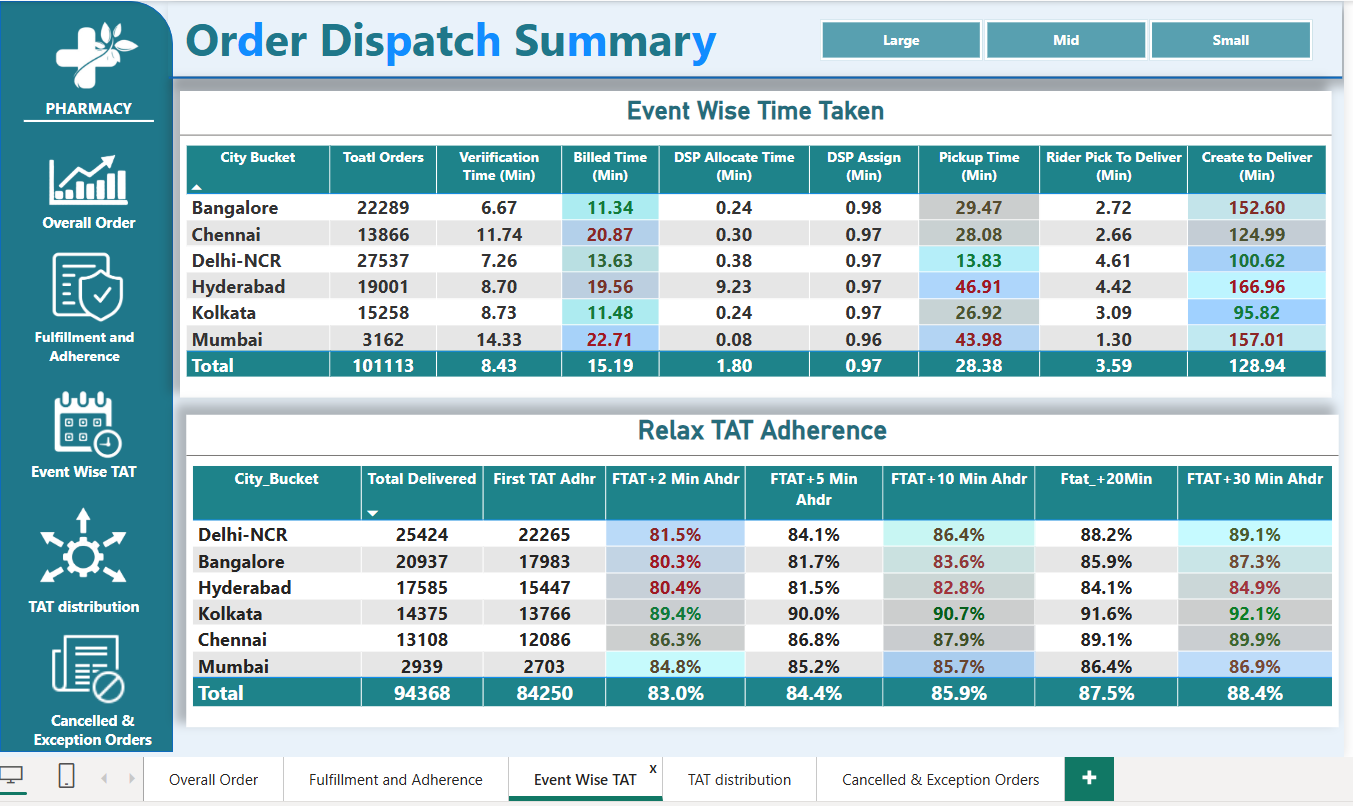

Layout of this report page (visuals, bound fields, positions):
{"tool":"powerbi","page":{"name":"Event Wise TAT","canvas":[1280,720],"ordinal":2},"visuals":[{"type":"shape","box":[0,0,164.8,715.5],"z":0},{"type":"textbox","box":[160,1.2,1118.6,70.2],"z":1000},{"type":"image","box":[20,127.9,128.6,86.9],"z":2000},{"type":"image","box":[25.2,360.2,114.3,89.3],"z":3000},{"type":"image","box":[31,467.9,96.9,100],"z":4000},{"type":"image","box":[35,596.4,98.8,78.6],"z":5000},{"type":"image","box":[45.2,229.8,77.4,85.7],"z":6000},{"type":"actionButton","box":[15,117.9,135,109.5],"z":7000},{"type":"textbox","box":[31,196.4,110.7,30.2],"z":8000},{"type":"textbox","box":[1.2,305.5,158.3,48.1],"z":9000},{"type":"actionButton","box":[29.3,223.8,110.7,128.6],"z":10000},{"type":"actionButton","box":[11.9,358.8,140.5,106.7],"z":11000},{"type":"textbox","box":[19,433.3,125,33.6],"z":12000},{"type":"textbox","box":[17.9,562.4,123.8,28.6],"z":13000},{"type":"actionButton","box":[13.1,469.1,134.5,128.6],"z":14000},{"type":"textbox","box":[16.7,670.2,142.9,48.8],"z":15000},{"type":"actionButton","box":[9.5,601.4,148.8,118.8],"z":16000},{"type":"shape","box":[22.1,97.6,124.3,33.3],"z":17000},{"type":"slicer","fields":{"Values":["Sheet1.store_type"]},"box":[754.8,10.7,519.1,52.4],"z":18000},{"type":"shape","box":[160.7,63.1,1117.9,19.8],"z":19000},{"type":"tableEx","title":"Event Wise Time Taken","fields":{"Values":["Sheet1.City_Bucket","CountNonNull(Sheet1.orderid)","Avg(Sheet1.Verified_in_Min)","Avg(Sheet1.Billed_time_min)","Avg(Sheet1.DSP_Allocation_In_Min)","Avg(Sheet1.DSP_Assigned)","Avg(Sheet1.pickup_in_minuts)","Avg(Sheet1.Rider_delivery_in_Min)","Avg(Sheet1.O2D_in_min)"]},"box":[171.4,85.7,1096.4,291.9],"z":20000},{"type":"tableEx","title":"Relax TAT Adherence","fields":{"Values":["Sheet1.City_Bucket","Sum(Sheet1.isDelivered)","Sum(Sheet1.First_SLA_Adherence)","Avg(Sheet1.Ftat_+2Min)","Avg(Sheet1.Ftat_+5Min)","Avg(Sheet1.Ftat_+10Min)","Avg(Sheet1.Ftat_+20Min)","Avg(Sheet1.Ftat_+30Min)"]},"box":[176.9,393.8,1097.6,297.6],"z":21000},{"type":"image","box":[16,0.2,156,98.8],"z":22000},{"type":"textbox","box":[0,86.7,169,34.5],"z":23000}]}

Visuals, with their boxes on the page's 1280x720 design canvas (x1, y1, x2, y2). These are canvas units, not pixel positions in the 1353x806 screenshot, which may show the page scaled, cropped or inside an application window:
shape: box(0, 0, 165, 716)
textbox: box(160, 1, 1279, 71)
image: box(20, 128, 149, 215)
image: box(25, 360, 140, 450)
image: box(31, 468, 128, 568)
image: box(35, 596, 134, 675)
image: box(45, 230, 123, 316)
actionButton: box(15, 118, 150, 227)
textbox: box(31, 196, 142, 227)
textbox: box(1, 306, 160, 354)
actionButton: box(29, 224, 140, 352)
actionButton: box(12, 359, 152, 466)
textbox: box(19, 433, 144, 467)
textbox: box(18, 562, 142, 591)
actionButton: box(13, 469, 148, 598)
textbox: box(17, 670, 160, 719)
actionButton: box(10, 601, 158, 720)
shape: box(22, 98, 146, 131)
slicer - Sheet1.store_type: box(755, 11, 1274, 63)
shape: box(161, 63, 1279, 83)
"Event Wise Time Taken" tableEx: box(171, 86, 1268, 378)
"Relax TAT Adherence" tableEx: box(177, 394, 1274, 691)
image: box(16, 0, 172, 99)
textbox: box(0, 87, 169, 121)
